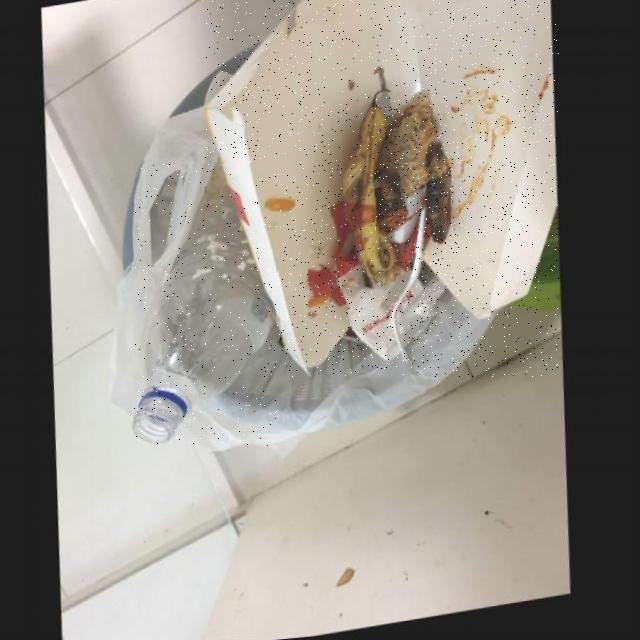biowaste: (344, 73, 398, 296), (375, 105, 453, 253), (309, 271, 349, 314)
paper: (205, 0, 559, 377), (337, 259, 440, 371)
plastic: (134, 164, 278, 447)
